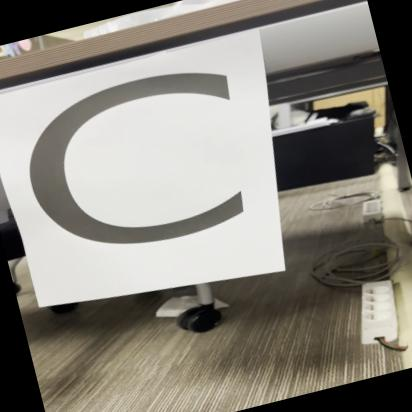seat: (0, 33, 288, 315)
